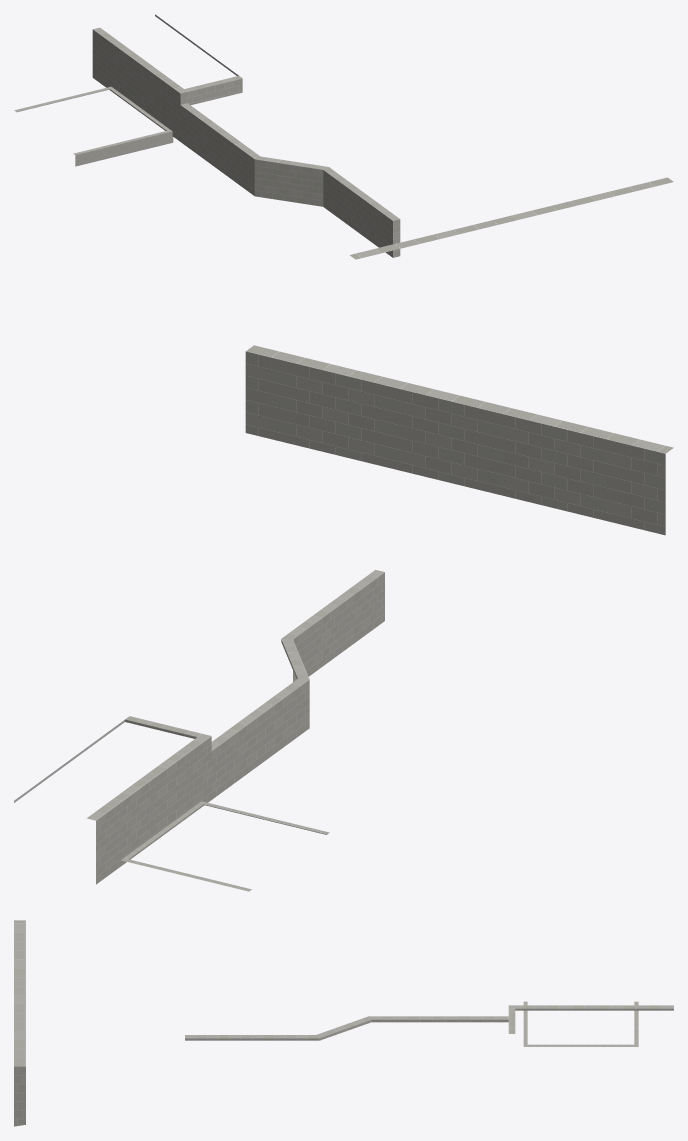
File: kd_stage_135d18_3_0.glb
The picture shows the model from 3 angles, top to bottom: view 1: azimuth 30°, elevation 25°; view 2: azimuth 150°, elevation 25°; view 3: azimuth 270°, elevation 25°; orthographic projection. The views are drawn at different scales.
Parts seen in each view (by area): view 1: kd_stage_135d18_3_0; view 2: kd_stage_135d18_3_0; view 3: kd_stage_135d18_3_0.
Boxes of the visible parts, <box> form: kd_stage_135d18_3_0: <box>14,14,673,259</box>; kd_stage_135d18_3_0: <box>14,345,673,891</box>; kd_stage_135d18_3_0: <box>14,920,673,1126</box>.
Size of the model in its own units: 8.97 by 2.68 by 16.6.
Materials: 1 (1 with a texture image).
